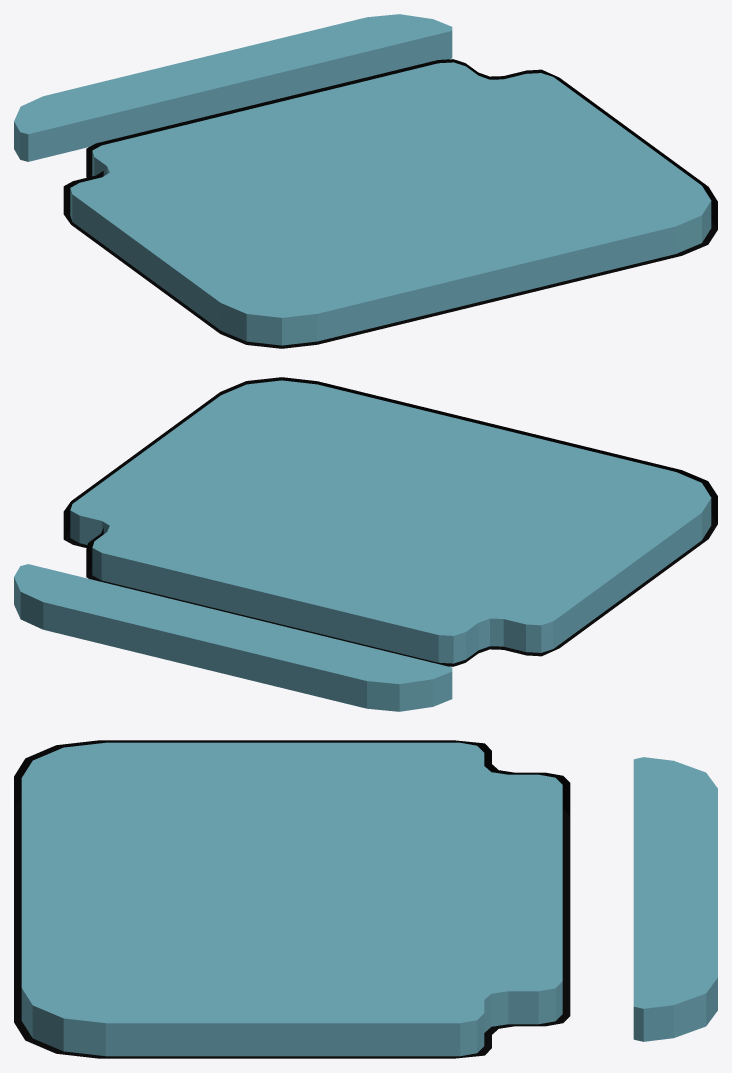
3 views of the same model, one above another, from view 1: azimuth 30°, elevation 25°; view 2: azimuth 150°, elevation 25°; view 3: azimuth 270°, elevation 25° (orthographic). The views are drawn at different scales.
Parts seen in each view (by area): view 1: Plane.082; view 2: Plane.082; view 3: Plane.082.
Part boxes in pixels (bbox=[...]): Plane.082: bbox=[14, 14, 717, 348]; Plane.082: bbox=[14, 377, 717, 711]; Plane.082: bbox=[14, 740, 717, 1058].
Bounding box in the file's own units: 1.09 × 0.06 × 1.14.
2 materials, 1 textured.
